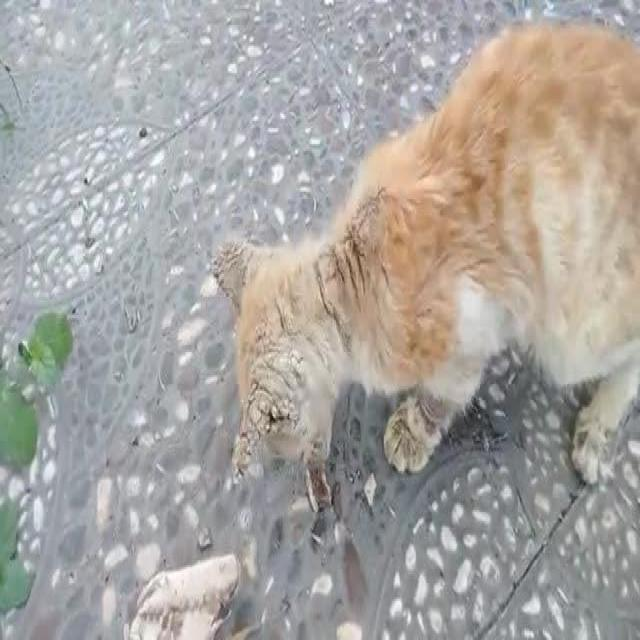ghe: (222, 368, 301, 480), (302, 232, 398, 308)
